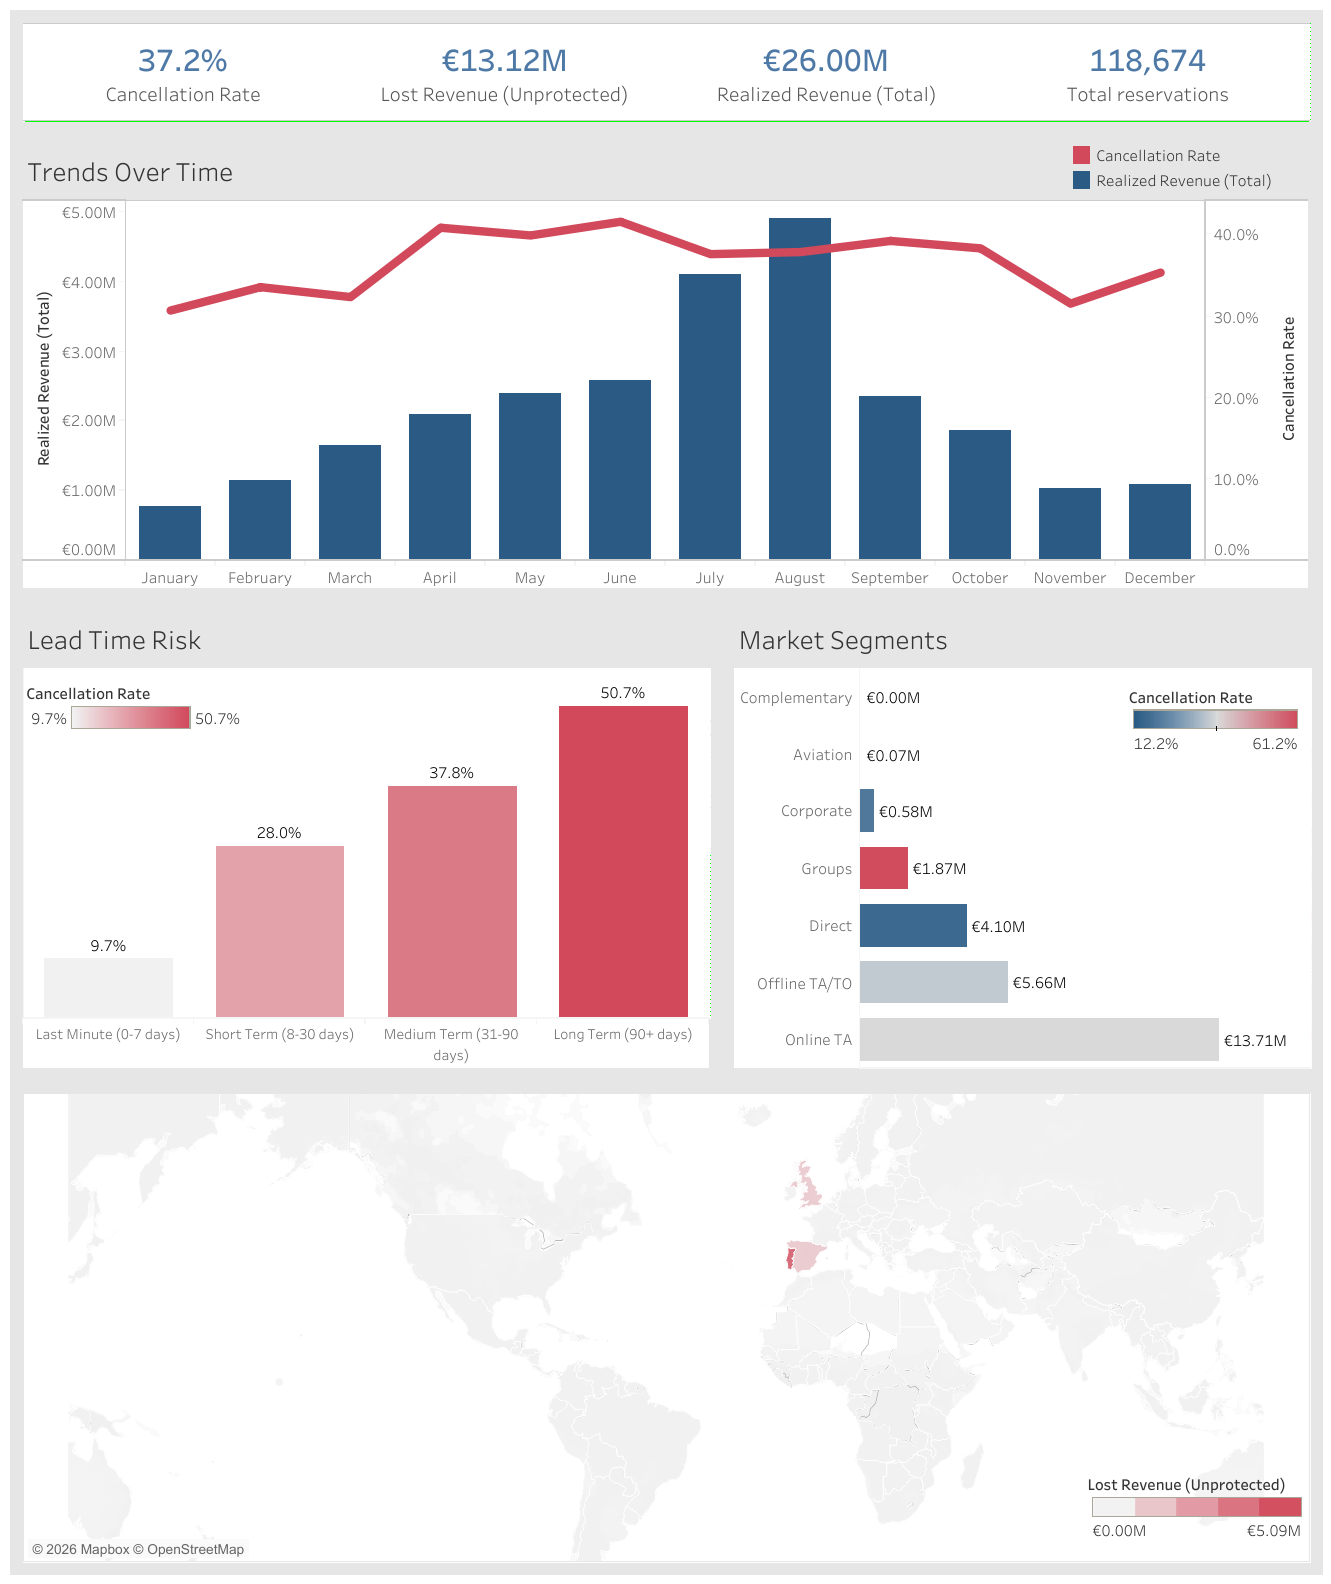

This screenshot's page, from the dashboard's own definition file:
{"tool":"tableau","page":{"name":"Dashboard ","canvas":[1066,1268],"ordinal":0},"visuals":[{"type":"worksheet","title":"KPIs","mark":"Automatic","box":[8,8,1050,99]},{"type":"legend","title":"Trends Over Time","param":"[federated.0xbcalm0h37pcx1071hds01bskgb].[:Measure Names]","box":[855,95,209,67]},{"type":"worksheet","title":"Trends Over Time","mark":"Automatic","rows":["Calculation_996984385027661826","Calculation_996984385027215360"],"cols":["arrival_date"],"box":[8,107,1050,373.7]},{"type":"worksheet","title":"Lead Time Risk","mark":"Automatic","rows":["Calculation_996984385027215360"],"cols":["lead_time_segment"],"box":[8,480.7,569,383.3]},{"type":"worksheet","title":"Market Segments","mark":"Automatic","rows":["market_segment"],"cols":["Calculation_996984385027661826"],"box":[577,480.7,481,383.3]},{"type":"legend","title":"Lead Time Risk","param":"[federated.0xbcalm0h37pcx1071hds01bskgb].[usr:Calculation_996984385027215360:qk]","box":[21,541,176,76]},{"type":"legend","title":"Market Segments","param":"[federated.0xbcalm0h37pcx1071hds01bskgb].[usr:Calculation_996984385027215360:qk]","box":[903,544,140,88]},{"type":"worksheet","title":"Global Demographics","mark":"Multipolygon","box":[8,864,1050,396]},{"type":"legend","title":"Global Demographics","param":"[federated.0xbcalm0h37pcx1071hds01bskgb].[sum:Calculation_996984385039151107:qk]","box":[870,1174,176,70]}]}

Visuals, with their boxes in screenshot pixels (x1, y1, x2, y2), scaled from the page's 1066x1268 canvas onto the 1331x1584 screenshot:
"KPIs" worksheet: BBox(10, 10, 1321, 134)
"Trends Over Time" legend: BBox(1068, 119, 1329, 202)
"Trends Over Time" worksheet: BBox(10, 134, 1321, 600)
"Lead Time Risk" worksheet: BBox(10, 600, 720, 1079)
"Market Segments" worksheet: BBox(720, 600, 1321, 1079)
"Lead Time Risk" legend: BBox(26, 676, 246, 771)
"Market Segments" legend: BBox(1127, 680, 1302, 790)
"Global Demographics" worksheet (Multipolygon marks): BBox(10, 1079, 1321, 1574)
"Global Demographics" legend: BBox(1086, 1467, 1306, 1554)
